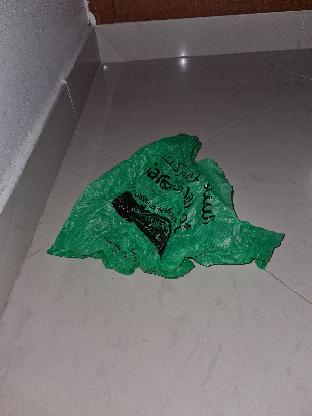Plastic Bag: (46, 137, 284, 281)
